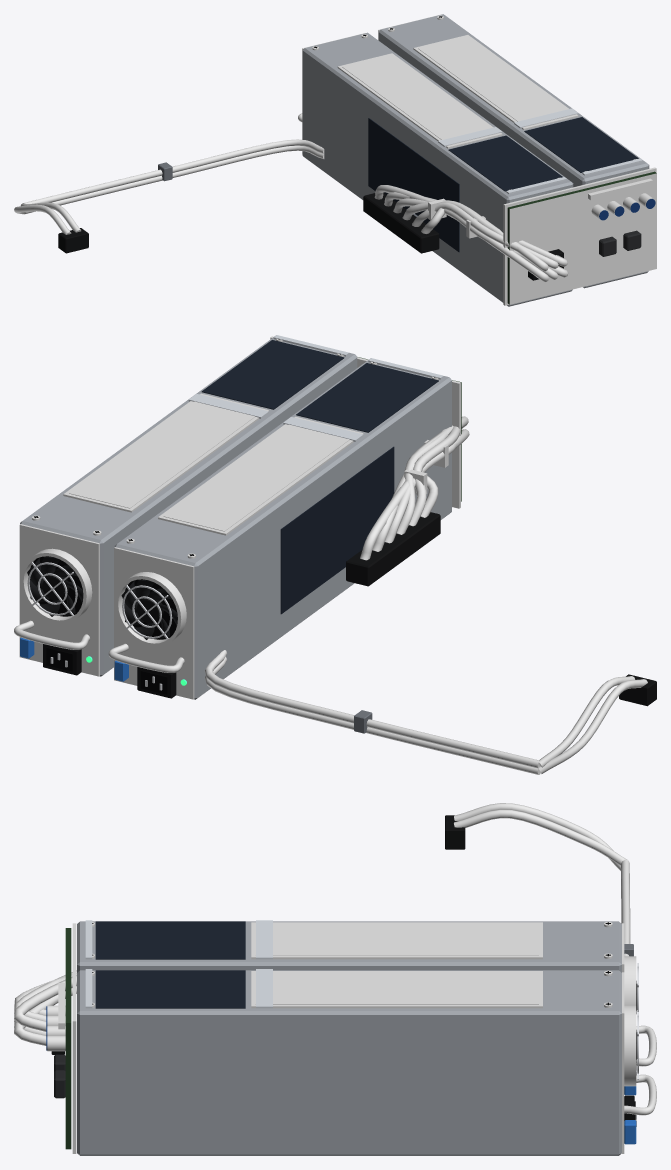
File: hwm_psu_1200w_red.glb
The picture shows the model from 3 angles, top to bottom: view 1: azimuth 30°, elevation 25°; view 2: azimuth 150°, elevation 25°; view 3: azimuth 270°, elevation 25°; orthographic projection. The views are drawn at different scales.
Visible parts, largest first — view 1: Body, Cable_ATX24, Cable_EPS_Run, Cable_EPS_Plug; view 2: Body, Cable_ATX24, Cable_EPS_Run, Cable_EPS_Plug; view 3: Body, Cable_EPS_Plug, Cable_ATX24, Cable_EPS_Run.
Boxes of the visible parts, x1,y1,x2,y2 form: Body: [298, 14, 656, 306]; Cable_ATX24: [363, 185, 568, 281]; Cable_EPS_Run: [23, 139, 324, 214]; Cable_EPS_Plug: [14, 202, 88, 253]; Body: [14, 335, 461, 699]; Cable_ATX24: [346, 416, 469, 586]; Cable_EPS_Run: [204, 650, 540, 774]; Cable_EPS_Plug: [538, 674, 656, 773]; Body: [46, 920, 656, 1155]; Cable_EPS_Plug: [445, 803, 627, 870]; Cable_ATX24: [14, 970, 76, 1054]; Cable_EPS_Run: [621, 859, 633, 956].
Bounding box in the file's own units: 0.4035 × 0.0958 × 0.3776.
